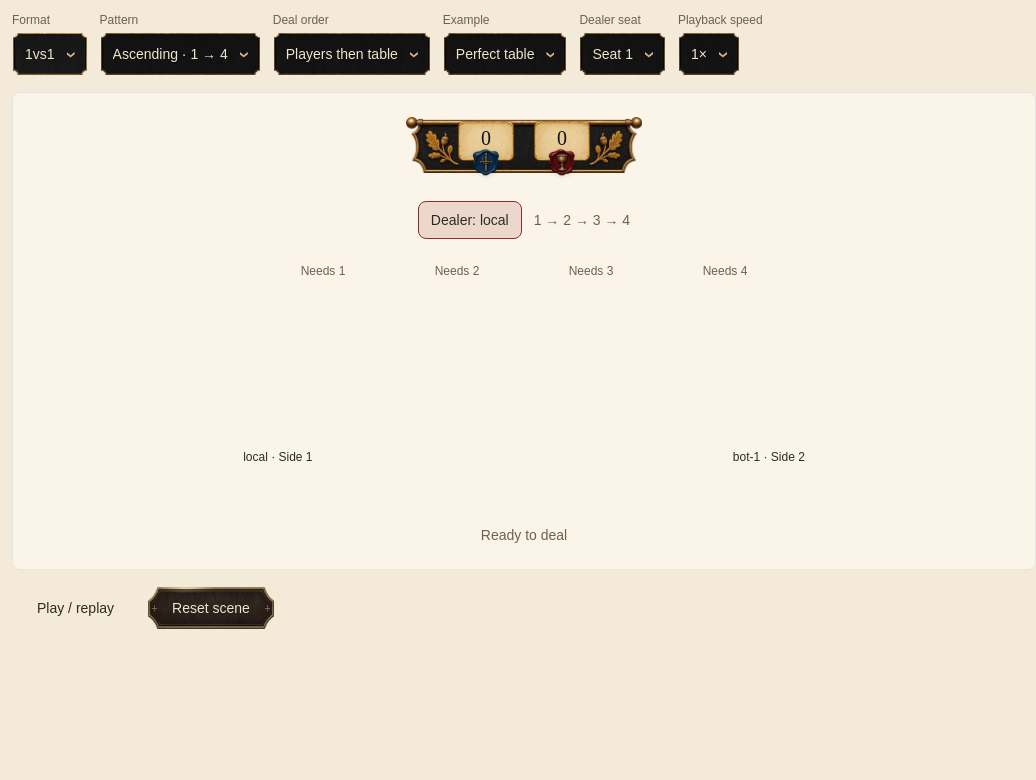
Test: shows source and recipient feedback immediately with reduced motion
Click the button "Play / replay": {"x": 76, "y": 608} x1=12 y1=586 x2=139 y2=630
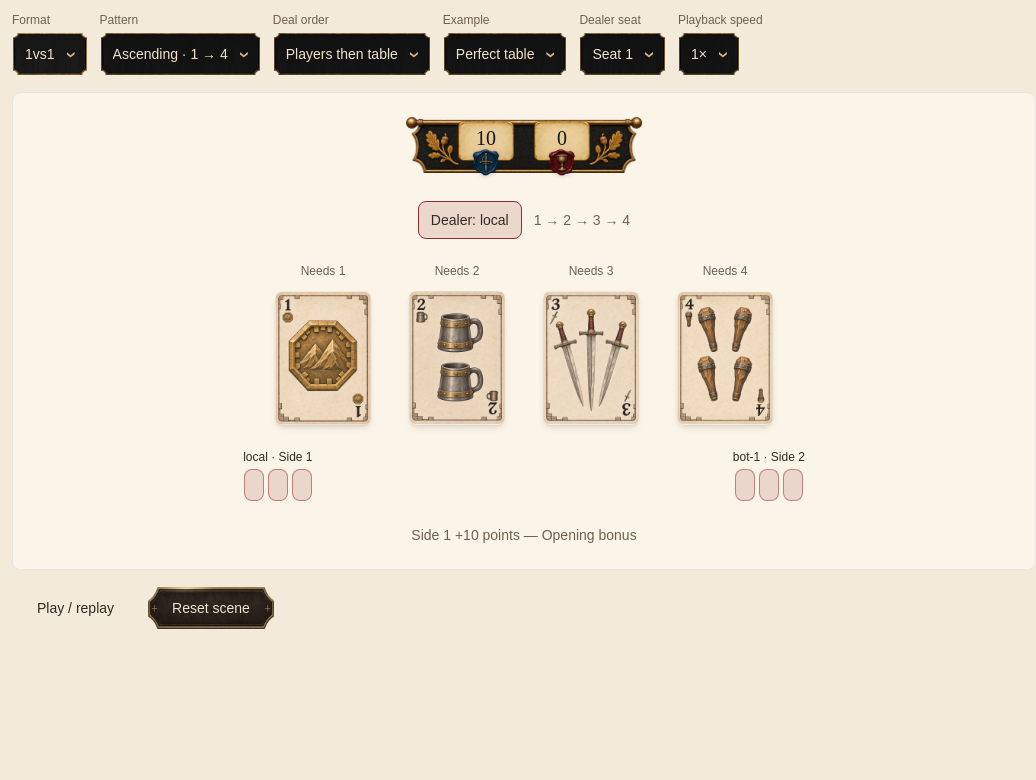
Result: the message shows "Side 1 +10 points" at x1=411 y1=527 x2=637 y2=543
Result: the list named "Scores" shows "10" at x1=476 y1=127 x2=496 y2=149
